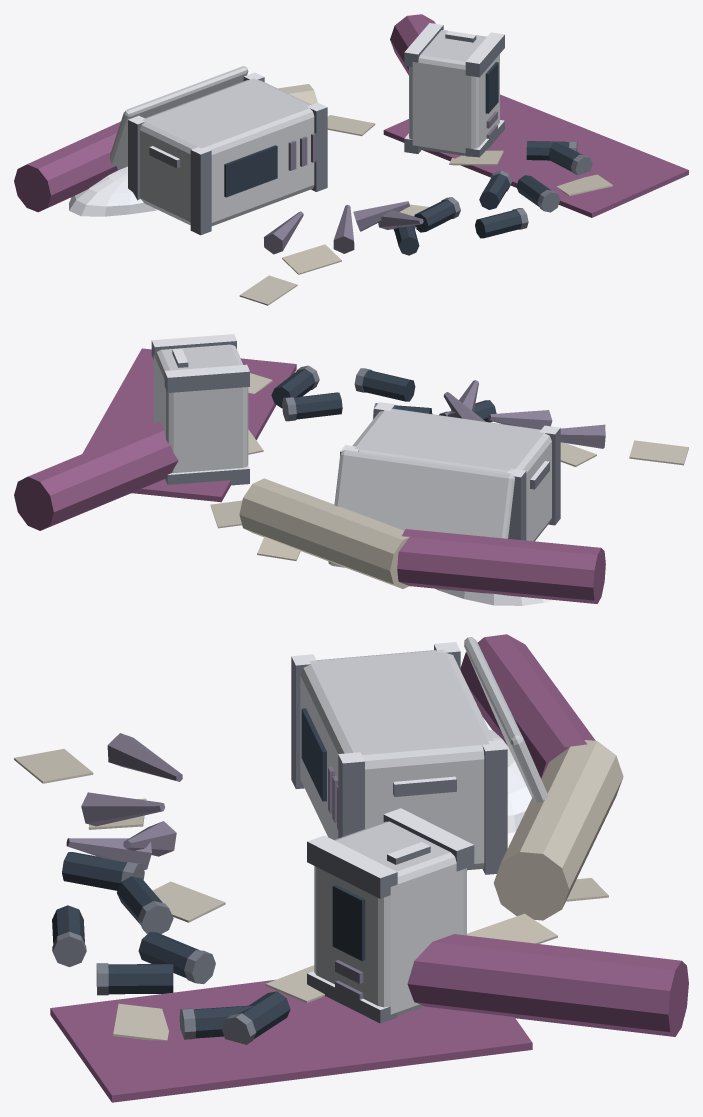
Rendered from PR_Mercadoria_A.fbx.
3 renders of one model, top to bottom at view 1: azimuth 30°, elevation 25°; view 2: azimuth 150°, elevation 25°; view 3: azimuth 270°, elevation 25°, orthographic. The views are drawn at different scales.
Parts seen in each view (by area): view 1: PR_Mercadoria_A; view 2: PR_Mercadoria_A; view 3: PR_Mercadoria_A.
Boxes of the visible parts, x1,y1,x2,y2 form: PR_Mercadoria_A: [14, 14, 688, 305]; PR_Mercadoria_A: [14, 334, 688, 605]; PR_Mercadoria_A: [14, 634, 688, 1102].
Size of the model in its own units: 4.18 by 0.79 by 2.97.
